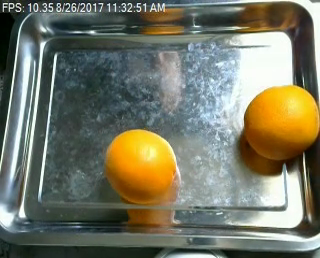Orange: (243, 84, 318, 160), (105, 127, 178, 204)
